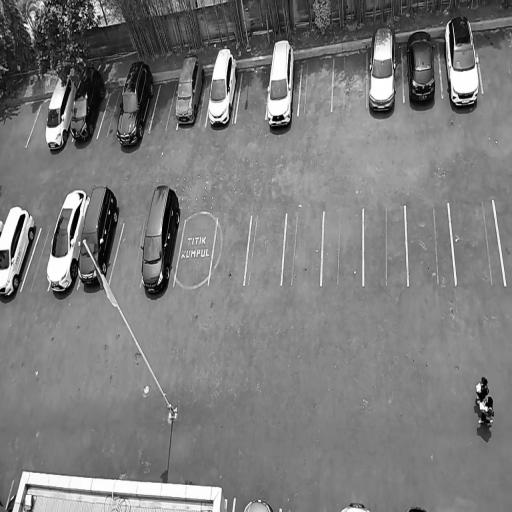Car: (70, 177, 123, 299), (138, 180, 185, 303), (41, 185, 92, 298), (113, 59, 158, 152), (442, 13, 483, 113), (0, 200, 40, 302), (68, 62, 109, 145), (206, 40, 242, 134), (265, 37, 297, 138), (405, 24, 440, 113), (42, 70, 79, 153), (369, 20, 399, 116), (173, 55, 207, 133), (243, 496, 274, 512), (338, 498, 372, 512)
Space Available: (451, 201, 505, 285), (406, 203, 456, 287), (363, 206, 406, 286), (321, 209, 363, 285), (282, 212, 324, 285), (174, 219, 218, 287), (244, 216, 287, 285), (209, 217, 251, 285), (474, 25, 512, 95), (298, 55, 335, 119), (109, 223, 146, 286), (332, 47, 367, 113), (21, 226, 54, 290), (235, 65, 271, 122), (149, 78, 179, 133), (97, 84, 125, 139), (495, 198, 512, 283), (26, 95, 51, 145)
